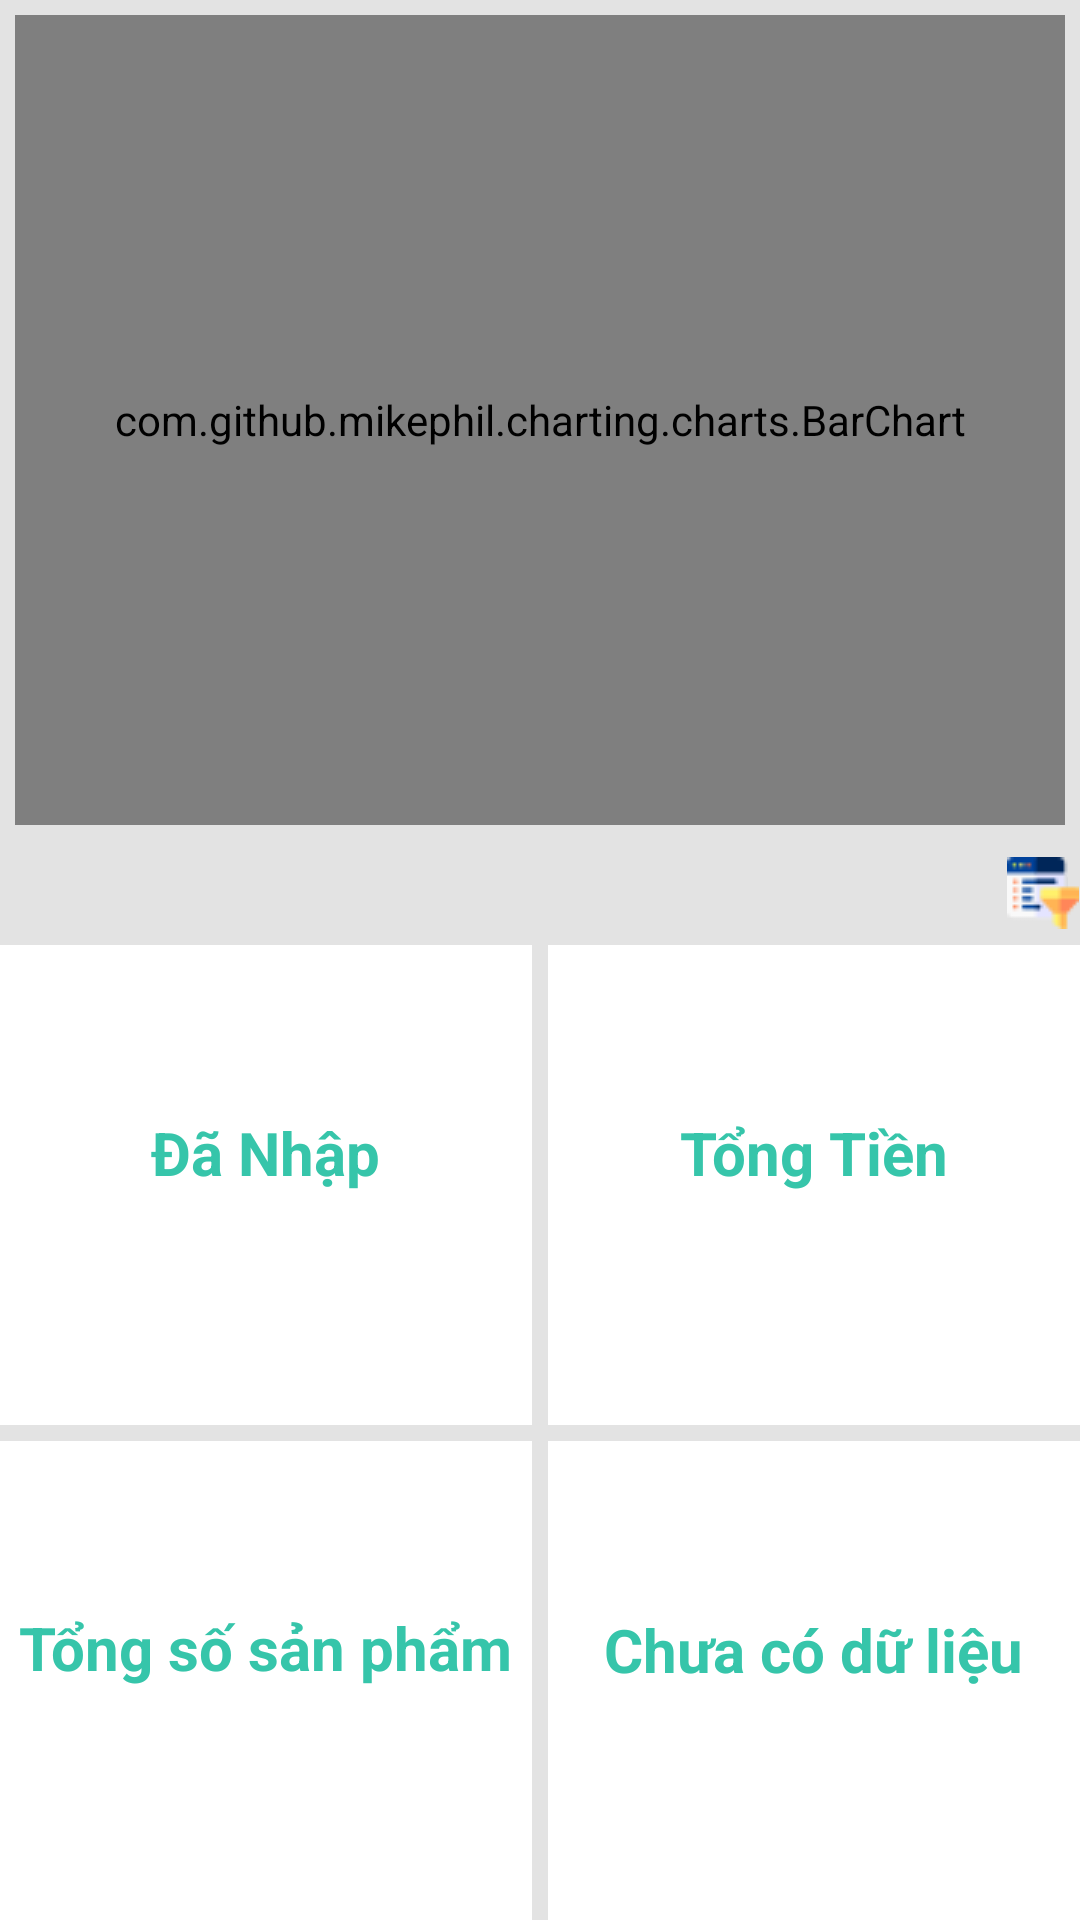

Icon bounding boxes for this 1080px×1920px phone screenshot, format (x1, y1, x2, y2):
filter: (1007, 857, 1079, 929)
